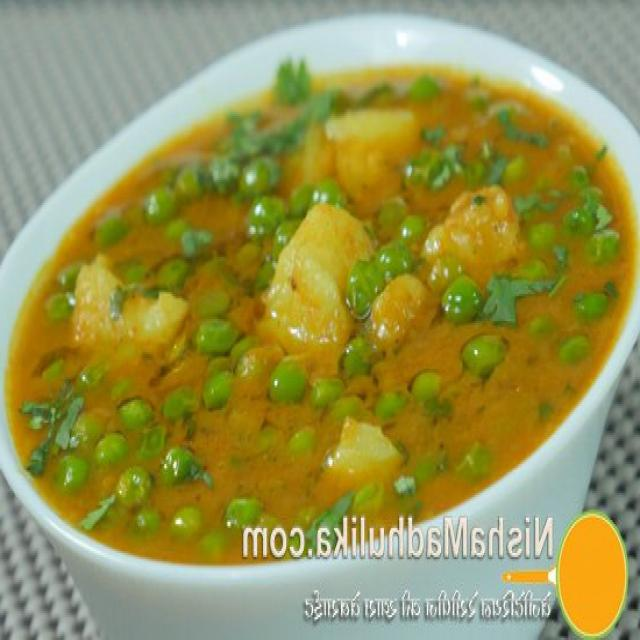Aloo Matar: (3, 24, 629, 564)
